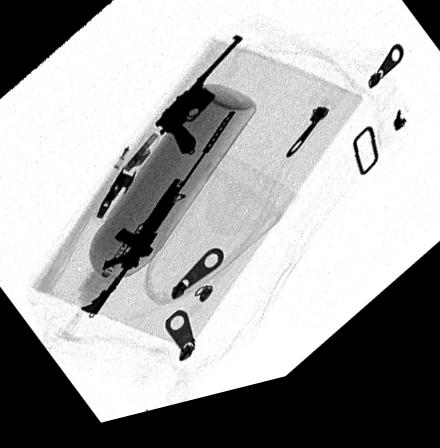Gun: (78, 121, 236, 319), (152, 46, 243, 163)
